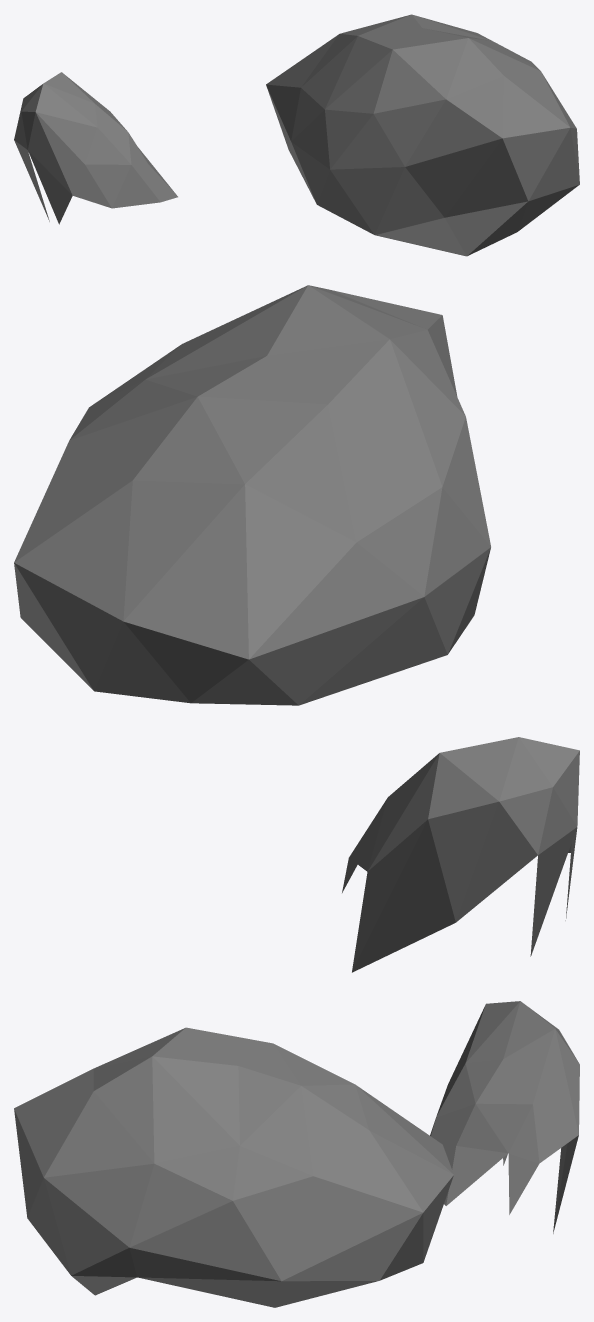
File: stone_group1.gltf
3 renders of one model, top to bottom at view 1: azimuth 30°, elevation 25°; view 2: azimuth 150°, elevation 25°; view 3: azimuth 270°, elevation 25°, orthographic. The views are drawn at different scales.
Parts seen in each view (by area): view 1: Icosphere.001; view 2: Icosphere.001; view 3: Icosphere.001.
Part boxes in pixels (bbox=[...]): Icosphere.001: bbox=[14, 14, 579, 256]; Icosphere.001: bbox=[14, 285, 579, 972]; Icosphere.001: bbox=[14, 1001, 579, 1307].
Bounding box in the file's own units: 5.4 × 3.01 × 5.3.
Materials: 1 (1 with a texture image).
